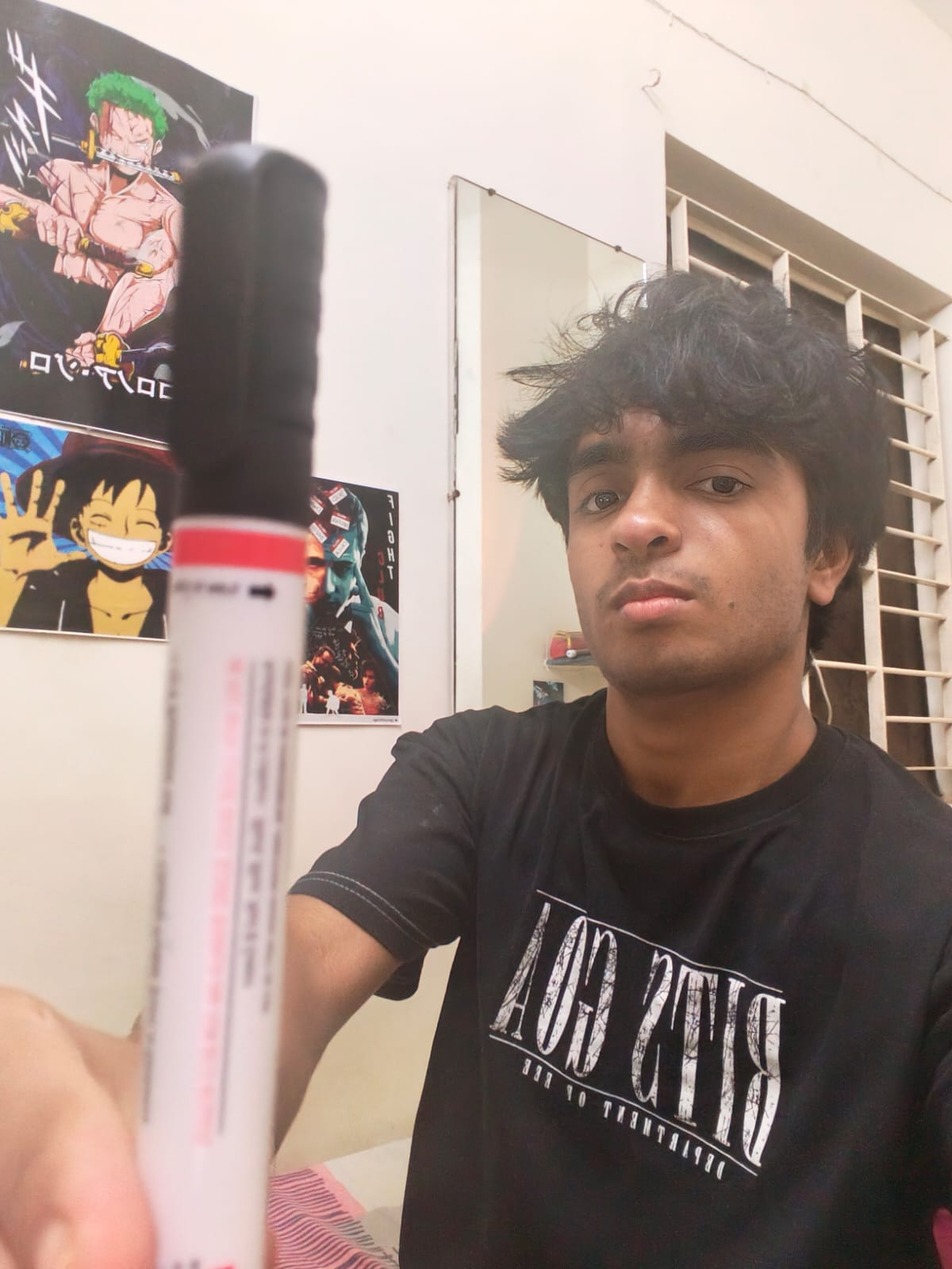case: (152, 137, 302, 1269)
